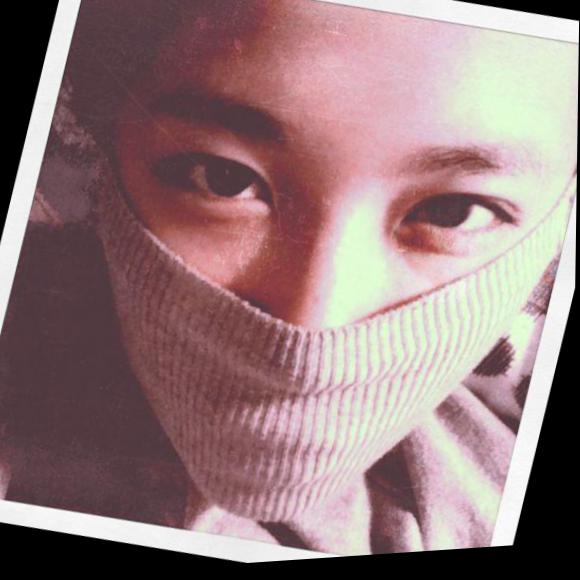WRONG: (47, 16, 579, 577)
